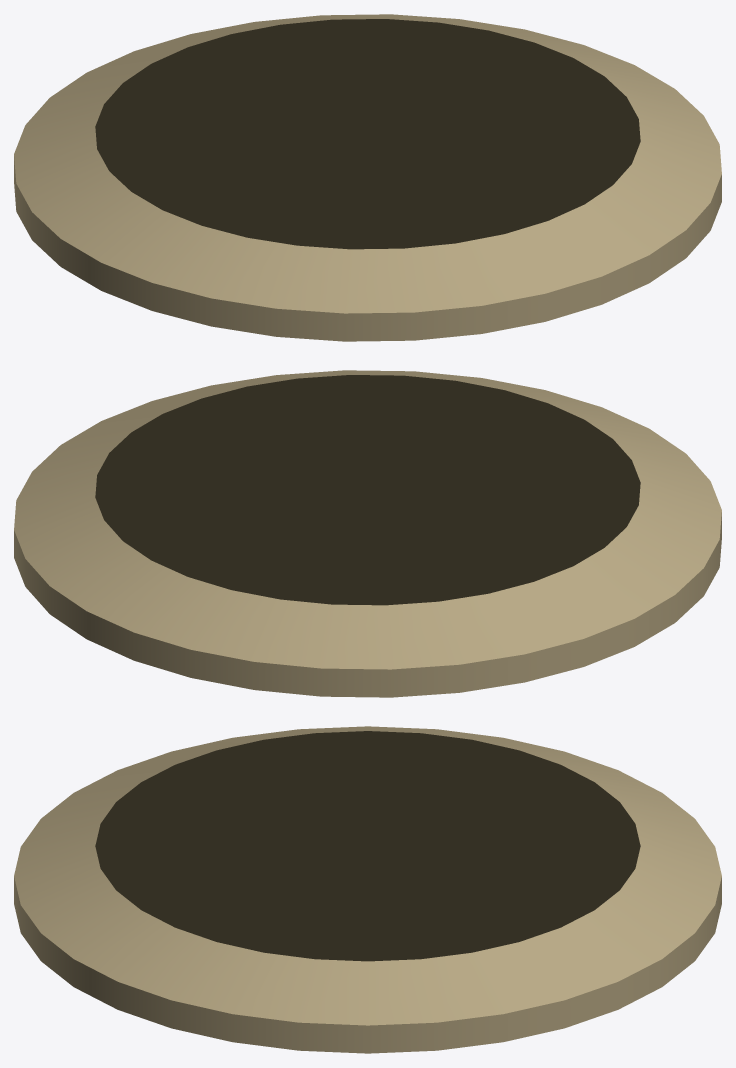
The model's file is Road_OrphanRoad.fbx.
The picture shows the model from 3 angles, top to bottom: view 1: azimuth 30°, elevation 25°; view 2: azimuth 150°, elevation 25°; view 3: azimuth 270°, elevation 25°; orthographic projection.
Parts seen in each view (by area): view 1: Road_Orphan; view 2: Road_Orphan; view 3: Road_Orphan.
Part boxes in pixels (left/top/right/bottom): Road_Orphan: left=14, top=14, right=721, bottom=341; Road_Orphan: left=14, top=370, right=721, bottom=697; Road_Orphan: left=14, top=726, right=721, bottom=1053.
Bounding box in the file's own units: 0.2988 × 0.2988 × 0.0269.
